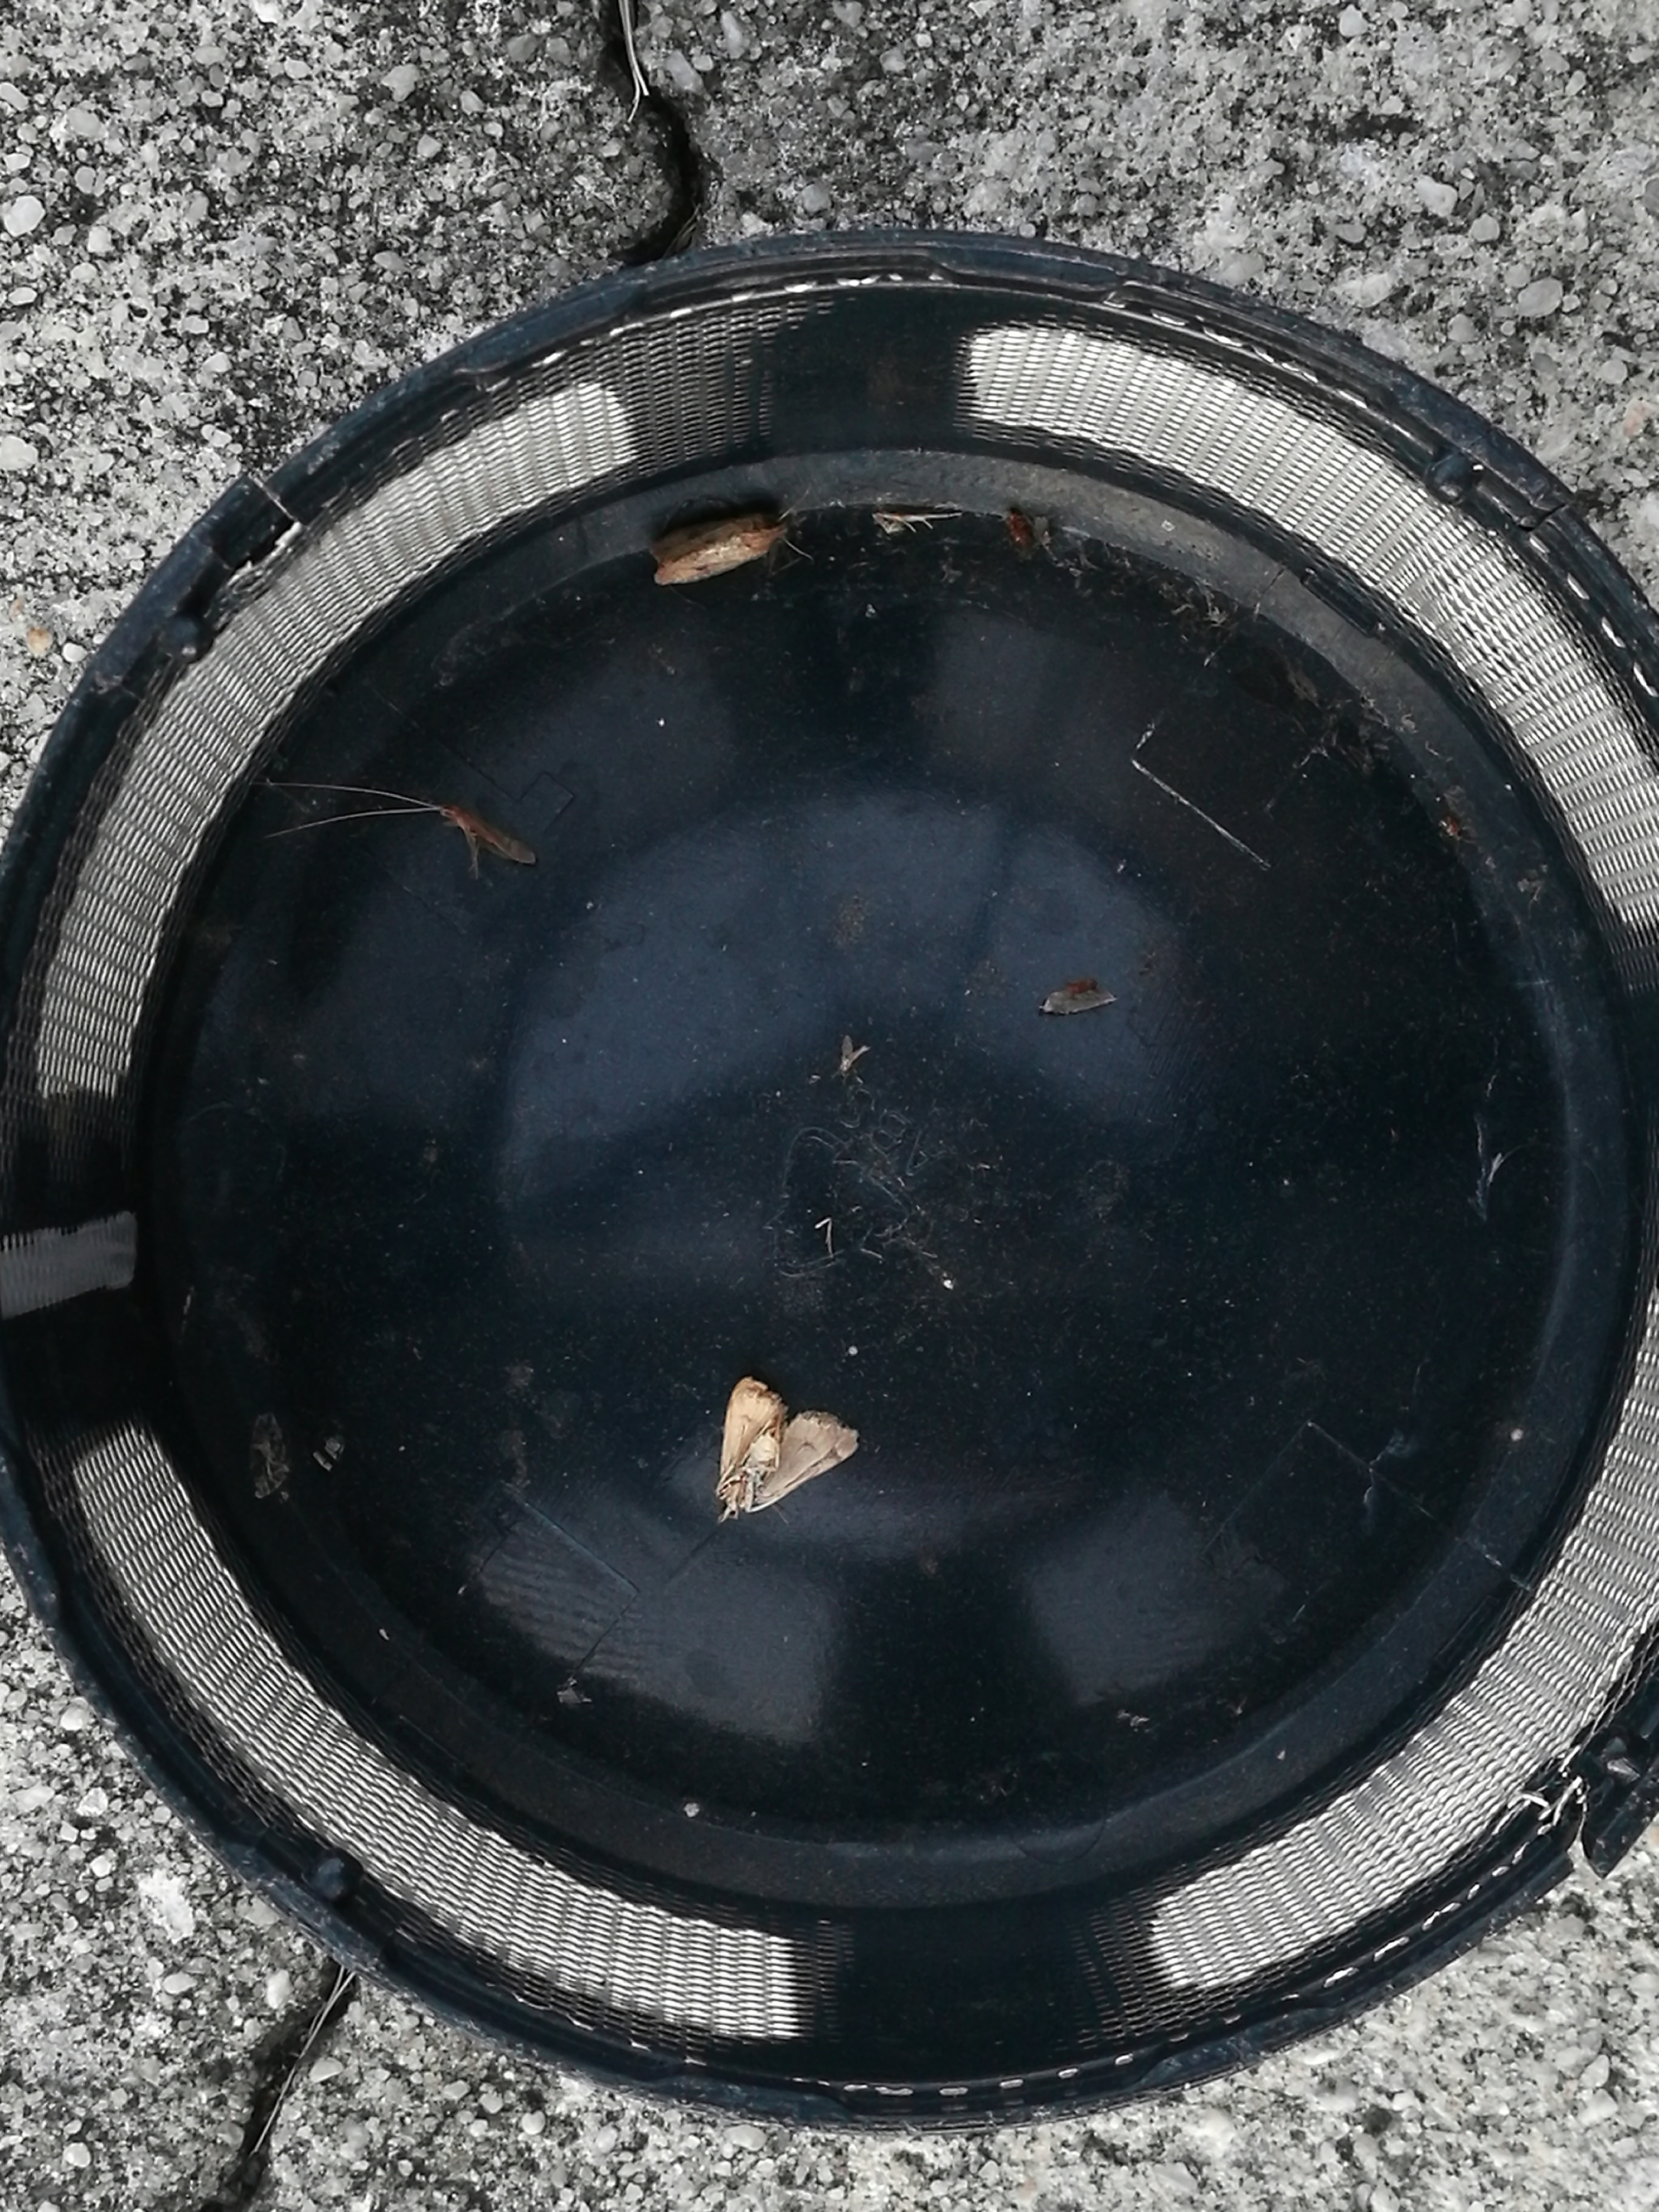mosquito: (444, 805, 540, 867)
moth: (720, 1376, 857, 1514), (652, 516, 788, 587)
